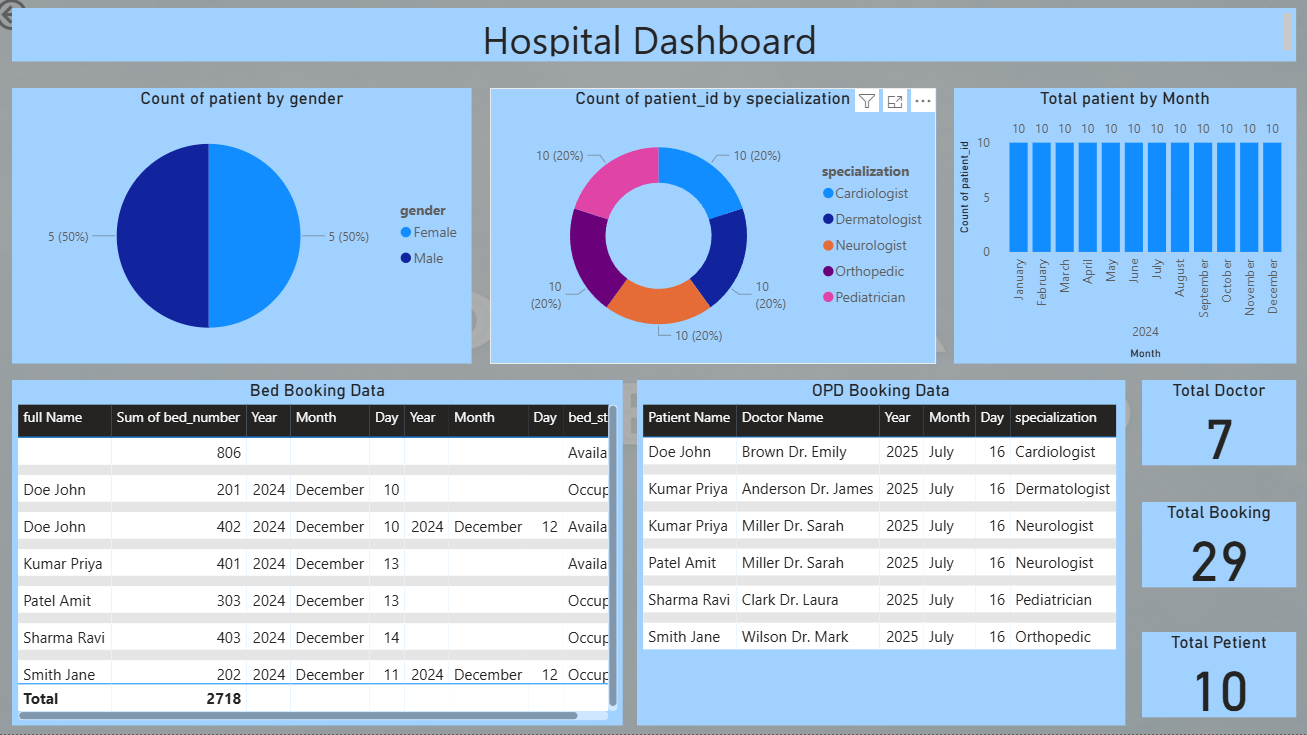

The dashboard page shown, as its layout file describes it:
{"tool":"powerbi","page":{"name":"Page 1","canvas":[1280,720],"ordinal":0},"visuals":[{"type":"pieChart","title":"Count of patient by gender","fields":{"Category":["public patients.gender"],"Y":["CountNonNull(public patients.patient_id)"]},"box":[20.4,91.4,447.4,268.4],"z":0},{"type":"actionButton","box":[0,0,100,40],"z":1000},{"type":"tableEx","title":"OPD Booking Data","fields":{"Values":["public patients.full Name","public doctors.Full Name","public patients.registration_date.Variation.Date Hierarchy.Year","public patients.registration_date.Variation.Date Hierarchy.Month","public patients.registration_date.Variation.Date Hierarchy.Day","public doctors.specialization"]},"box":[628.3,375.4,474.7,335.6],"z":2000},{"type":"donutChart","fields":{"Category":["public doctors.specialization"],"Y":["CountNonNull(public patients.patient_id)"]},"box":[485.3,91.4,433.8,268.4],"z":3000},{"type":"textbox","box":[20.4,13.6,1248.9,51.6],"z":4000},{"type":"tableEx","title":"Bed Booking Data","fields":{"Values":["public patients.full Name","Sum(public hospital_beds.bed_number)","public bed_allotment.allotment_date.Variation.Date Hierarchy.Year","public bed_allotment.allotment_date.Variation.Date Hierarchy.Month","public bed_allotment.allotment_date.Variation.Date Hierarchy.Day","public bed_allotment.discharge_date.Variation.Date Hierarchy.Year","public bed_allotment.discharge_date.Variation.Date Hierarchy.Month","public bed_allotment.discharge_date.Variation.Date Hierarchy.Day","public hospital_beds.bed_status"]},"box":[20.4,375.4,594.3,335.6],"z":5000},{"type":"card","title":"Total Petient","fields":{"Values":["CountNonNull(public patients.patient_id)"]},"box":[1119.5,620.5,149.8,82.7],"z":6000},{"type":"columnChart","title":"Total patient by  Month","fields":{"Category":["public opd_booking.booking_date.Variation.Date Hierarchy.Year","public opd_booking.booking_date.Variation.Date Hierarchy.Month"],"Y":["CountNonNull(public patients.patient_id)"]},"box":[936.7,91.4,332.6,268.4],"z":7000},{"type":"card","title":"Total Doctor","fields":{"Values":["CountNonNull(public opd_booking.doctor_id)"]},"box":[1119.5,375.4,149.8,82.7],"z":8000},{"type":"card","title":"Total Booking","fields":{"Values":["Sum(public opd_booking.booking_id)"]},"box":[1119.5,494.1,149.8,82.7],"z":9000}]}

Visuals, with their boxes in screenshot pixels (x1, y1, x2, y2), scaled from the page's 1280x720 canvas onto the 1307x735 screenshot:
"Count of patient by gender" pieChart: x1=21 y1=93 x2=478 y2=367
actionButton: x1=0 y1=0 x2=102 y2=41
"OPD Booking Data" tableEx: x1=642 y1=383 x2=1126 y2=726
donutChart - public doctors.specialization x CountNonNull(public patients.patient_id): x1=496 y1=93 x2=938 y2=367
textbox: x1=21 y1=14 x2=1296 y2=67
"Bed Booking Data" tableEx: x1=21 y1=383 x2=628 y2=726
"Total Petient" card: x1=1143 y1=633 x2=1296 y2=718
"Total patient by  Month" columnChart: x1=956 y1=93 x2=1296 y2=367
"Total Doctor" card: x1=1143 y1=383 x2=1296 y2=468
"Total Booking" card: x1=1143 y1=504 x2=1296 y2=589
